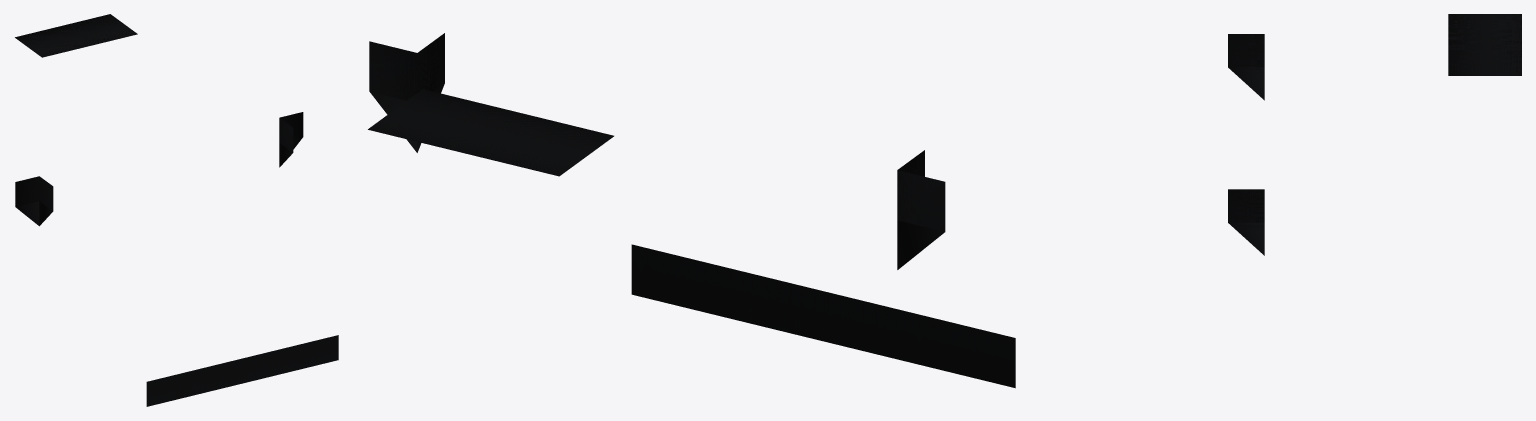
3 views of the same model, side by side, from view 1: azimuth 30°, elevation 25°; view 2: azimuth 150°, elevation 25°; view 3: azimuth 270°, elevation 25° (orthographic). The views are drawn at different scales.
Size of the model in its own units: 2.88 by 2.16 by 3.12.
Materials: 1 (1 with a texture image).
